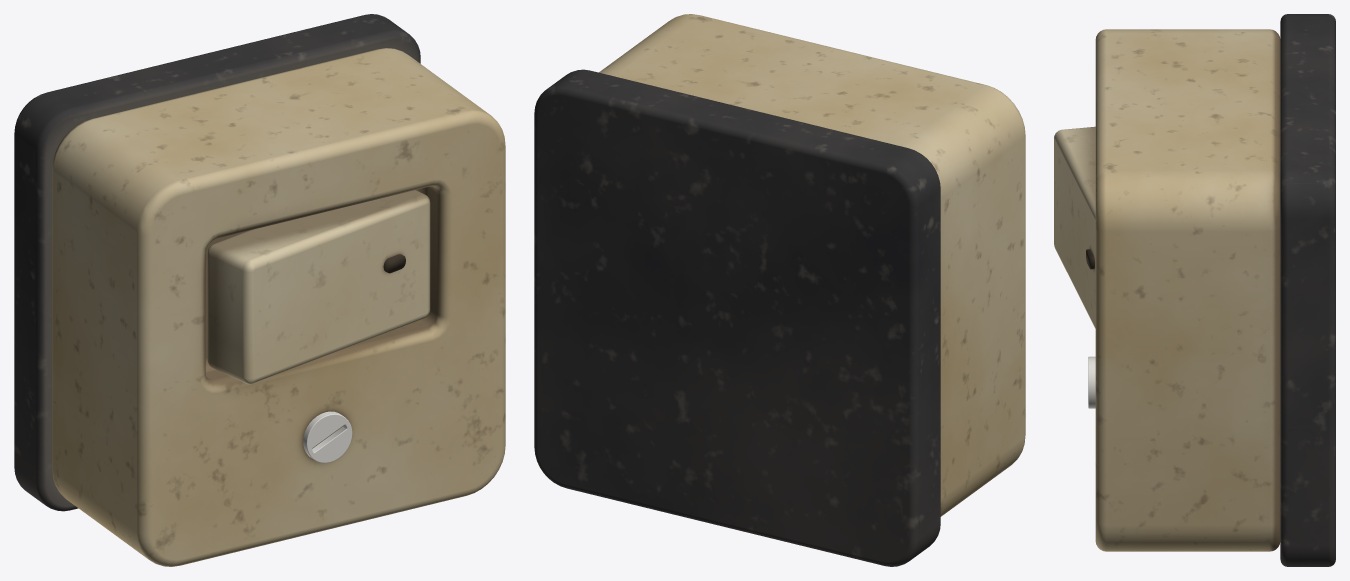
Rendered from Switch.gltf.
3 views of the same model, side by side, from view 1: azimuth 30°, elevation 25°; view 2: azimuth 150°, elevation 25°; view 3: azimuth 270°, elevation 25° (orthographic).
Parts seen in each view (by area): view 1: RetroBody, RetroRocker, RetroBase, RetroScrew; view 2: RetroBase, RetroBody; view 3: RetroBody, RetroBase, RetroRocker, RetroScrew.
Part boxes in pixels (x1,y1,x2,y2): RetroBody: (52, 48, 505, 566); RetroRocker: (207, 190, 430, 384); RetroBase: (14, 14, 420, 511); RetroScrew: (303, 411, 352, 462); RetroBase: (534, 69, 940, 566); RetroBody: (599, 14, 1025, 516); RetroBody: (1095, 29, 1280, 551); RetroBase: (1280, 14, 1335, 566); RetroRocker: (1054, 126, 1095, 328); RetroScrew: (1088, 356, 1095, 408).
Size of the model in its own units: 0.047 by 0.047 by 0.0305.
Materials: 5 (3 with a texture image).
